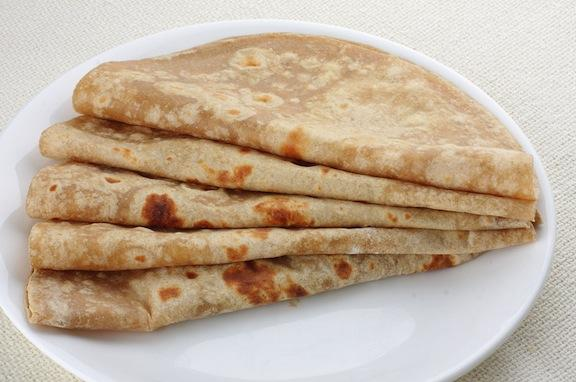chapati: (39, 116, 536, 221), (26, 162, 530, 230), (26, 255, 478, 330), (29, 220, 536, 271)
